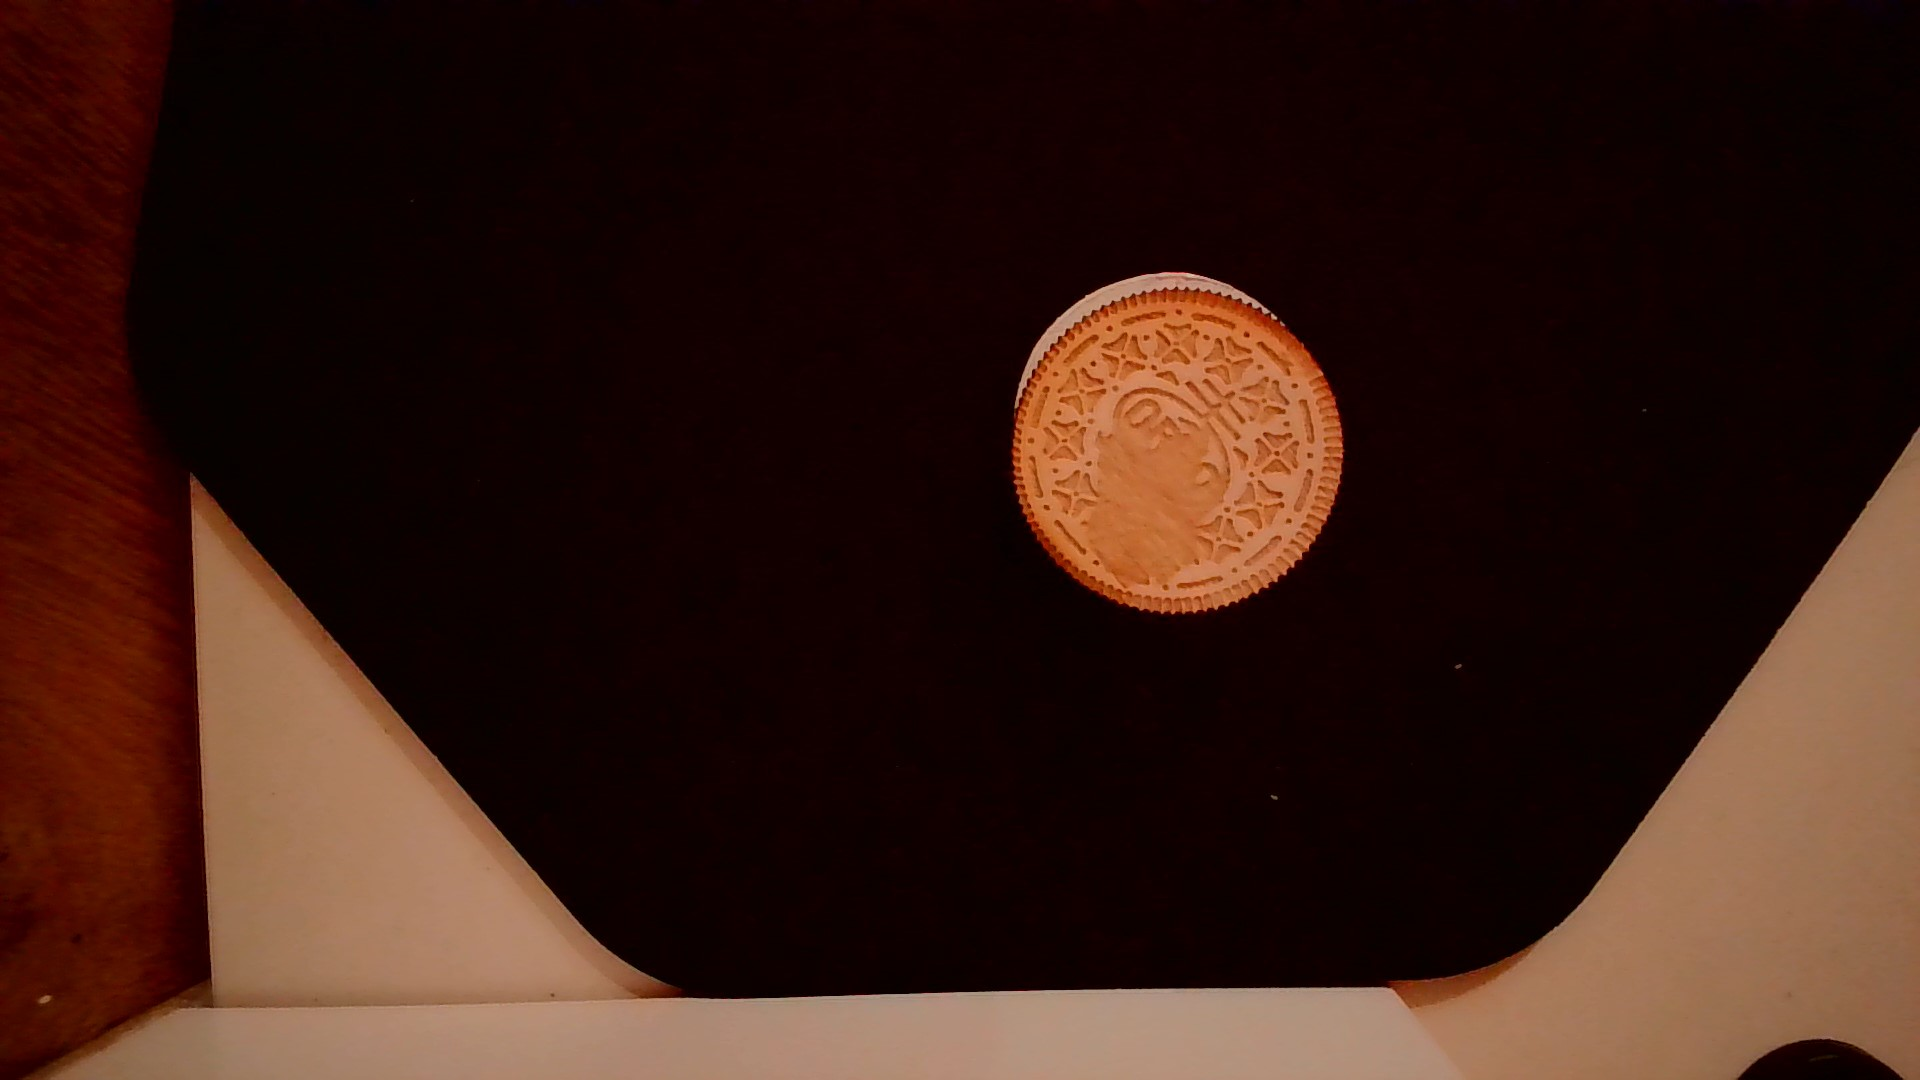Décalé: (1011, 262, 1292, 411)
Effacé: (1097, 425, 1212, 582)
Oréo: (1007, 280, 1356, 628)
